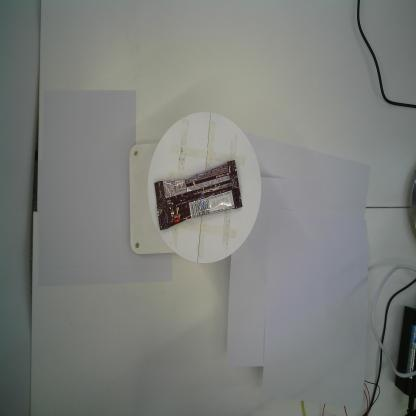Chocolate: (154, 158, 243, 231)
